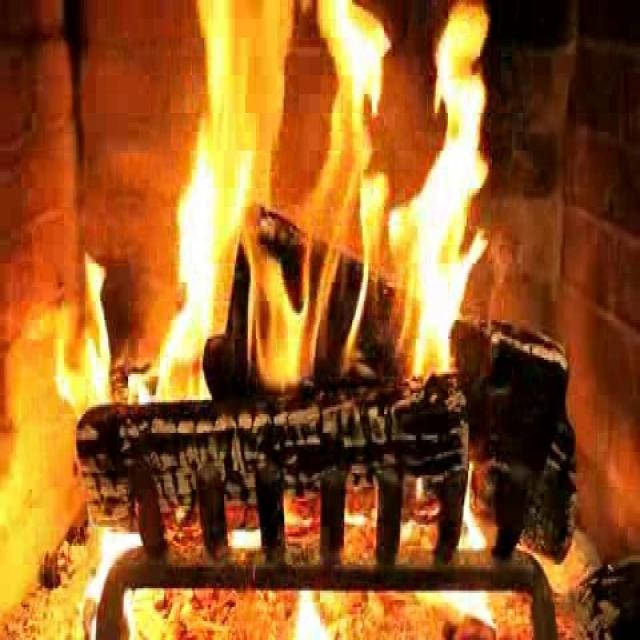Fire: (168, 0, 509, 377)
